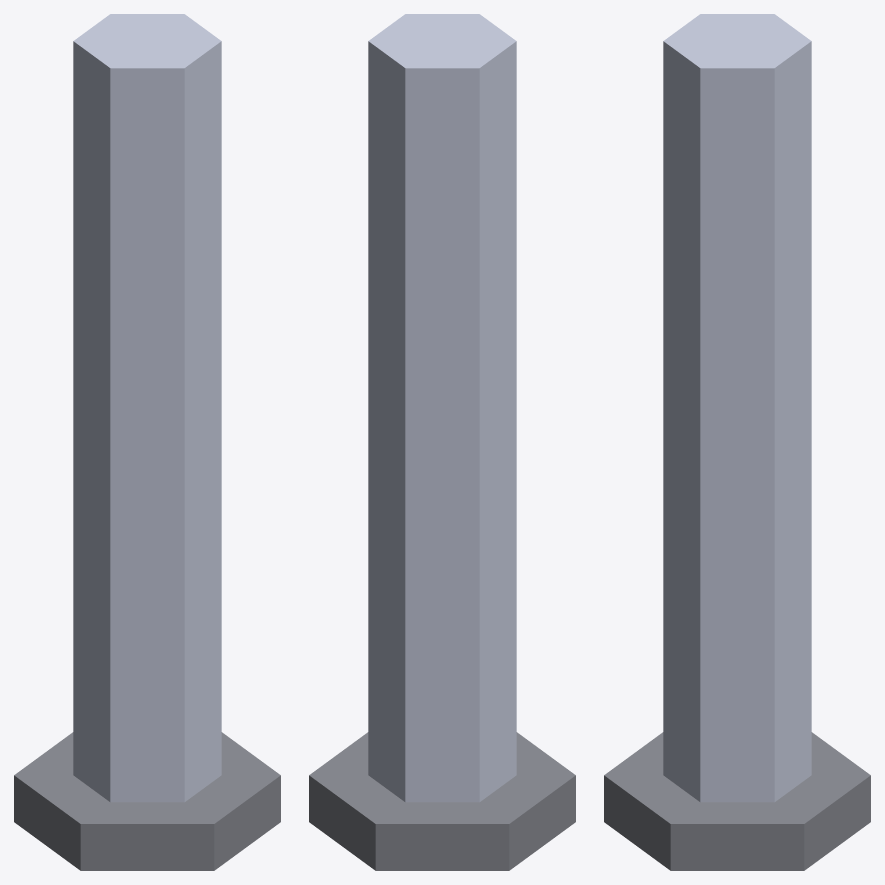
The picture shows the model from 3 angles, left to right: view 1: azimuth 30°, elevation 25°; view 2: azimuth 150°, elevation 25°; view 3: azimuth 270°, elevation 25°; orthographic projection.
Visible parts, largest first — view 1: object_079; view 2: object_079; view 3: object_079.
Part boxes in pixels (x1=…): object_079: x1=14, y1=14, x2=280, y2=870; object_079: x1=309, y1=14, x2=575, y2=870; object_079: x1=604, y1=14, x2=870, y2=870.
Bounding box in the file's own units: 1.34 × 5 × 1.55.
